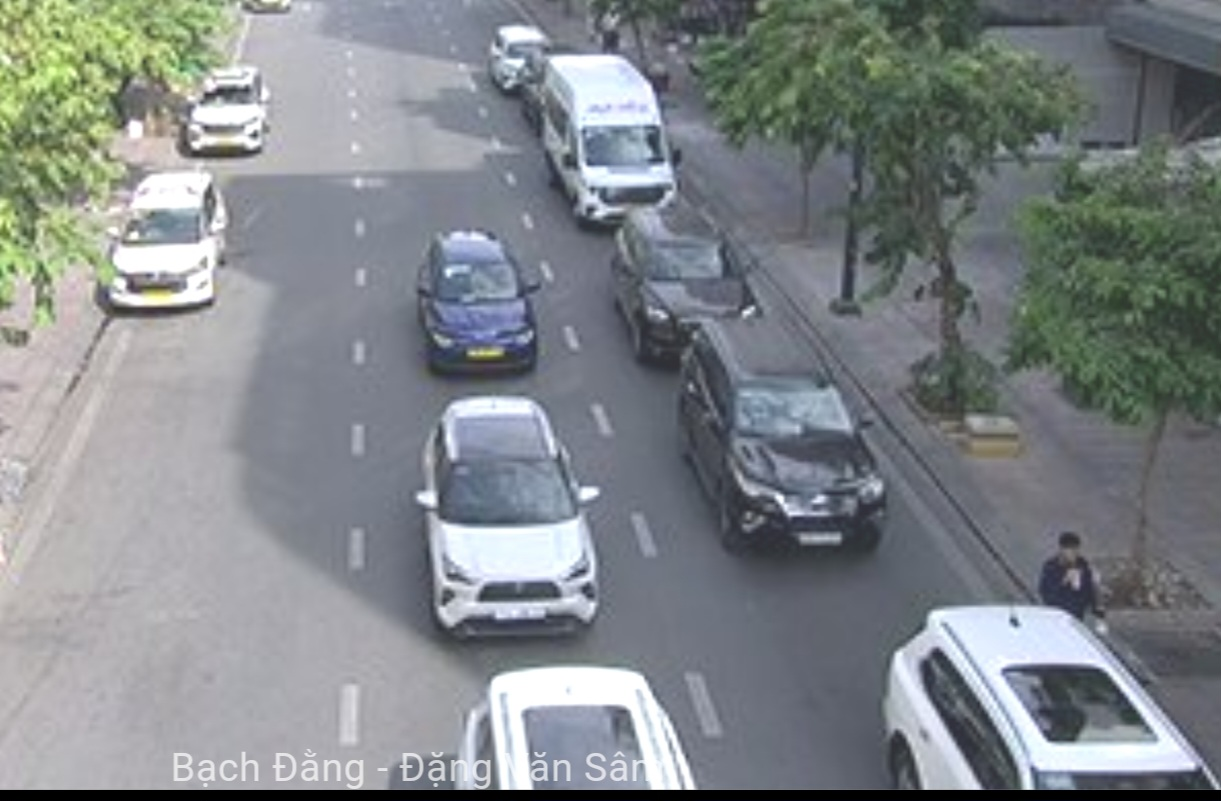car: (673, 326, 890, 558), (420, 405, 601, 634), (544, 62, 680, 221), (609, 212, 760, 351), (415, 234, 544, 370), (111, 175, 228, 313), (186, 68, 270, 156)
